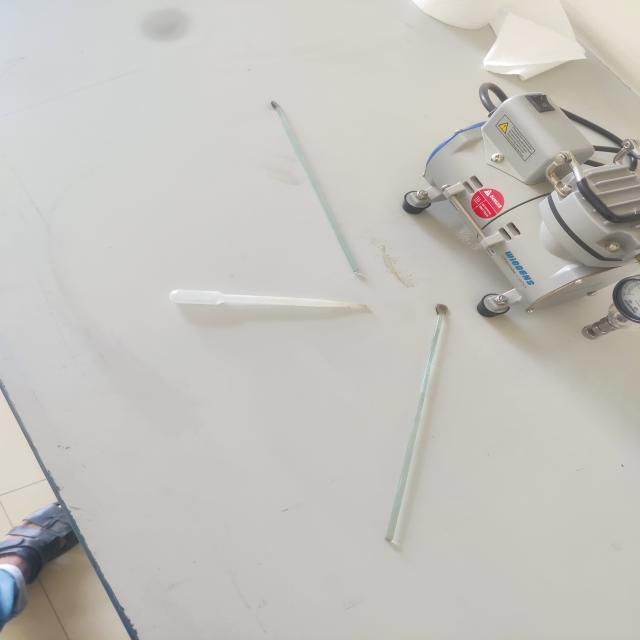Glass_Rod: (333, 295, 489, 560), (259, 75, 401, 298)
Pipette: (162, 276, 382, 335)
